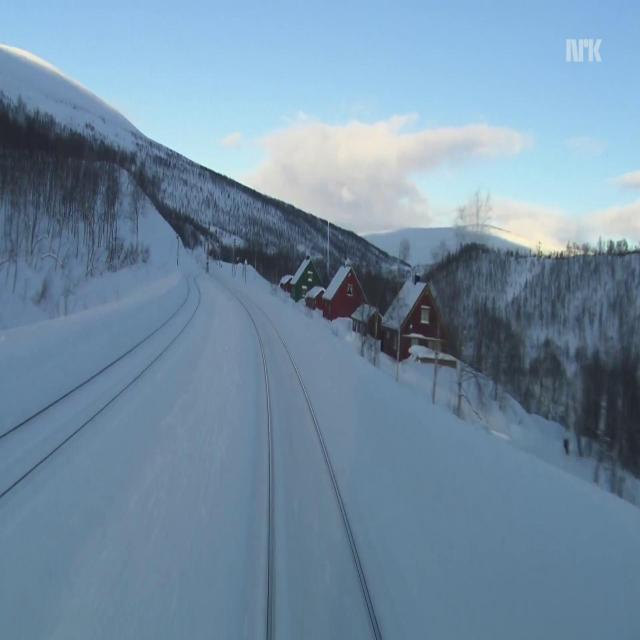rail-track: (240, 298, 375, 639), (0, 273, 199, 492)
